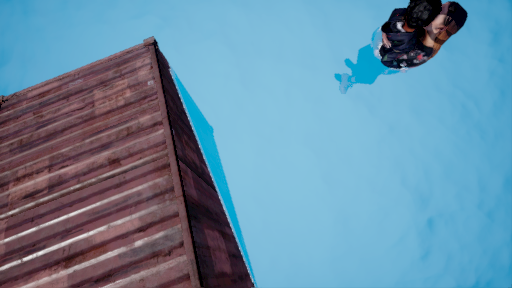person: (337, 1, 471, 100)
